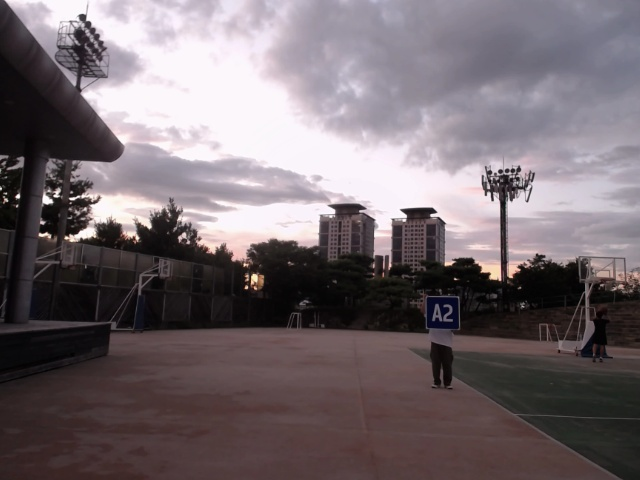delivery_a2: (426, 296, 460, 330)
